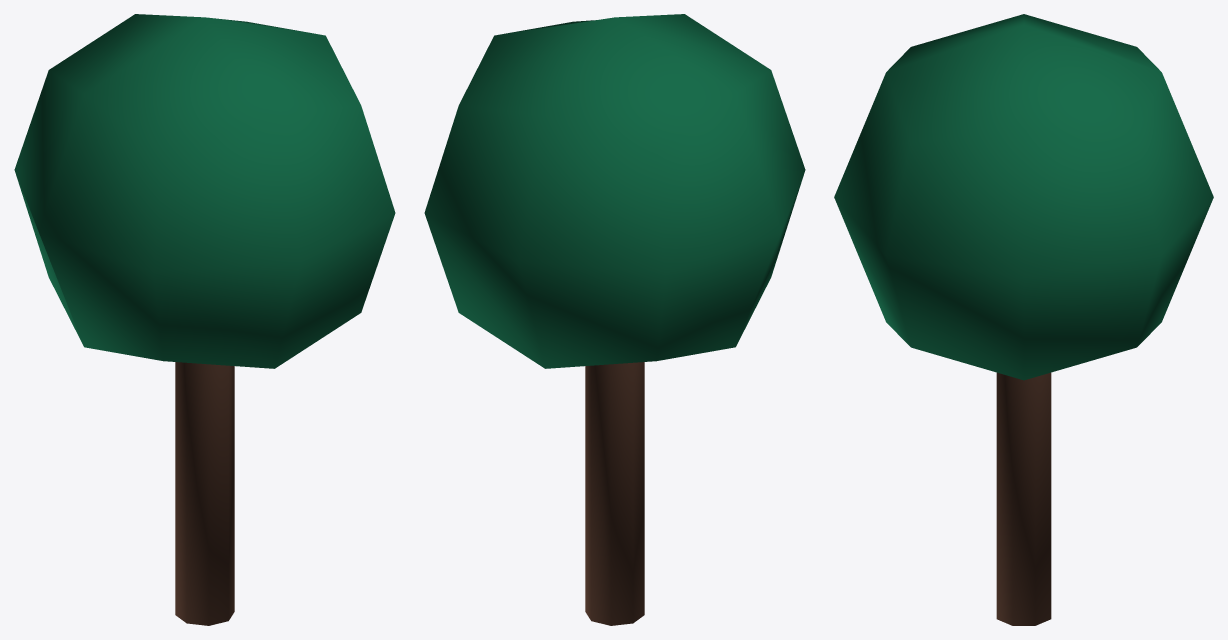
The model's file is Tree1.fbx.
The picture shows the model from 3 angles, left to right: view 1: azimuth 30°, elevation 25°; view 2: azimuth 150°, elevation 25°; view 3: azimuth 270°, elevation 25°; orthographic projection.
Parts seen in each view (by area): view 1: Tree.001; view 2: Tree.001; view 3: Tree.001.
Part boxes in pixels (x1,y1,x2,y2): Tree.001: (14,14,395,625); Tree.001: (424,14,805,625); Tree.001: (834,14,1213,625).
Bounding box in the file's own units: 315 × 540 × 315.
